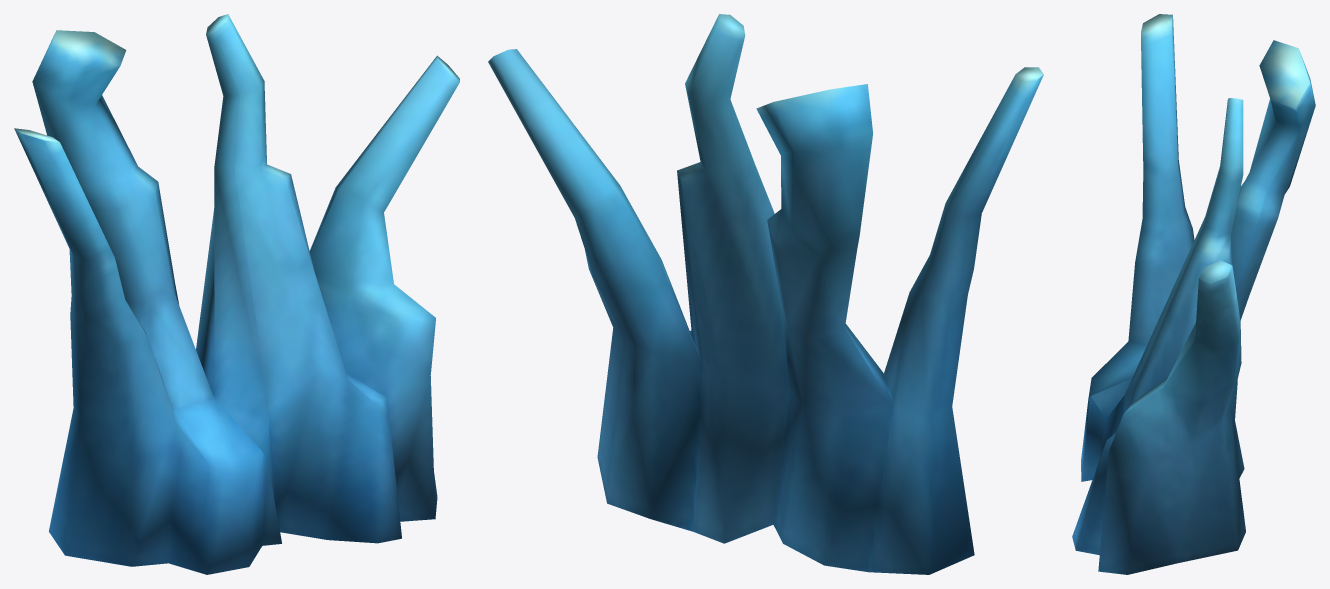
Rendered from Stage_ZhuCheng_BingLing02.FBX.
3 views of the same model, side by side, from view 1: azimuth 30°, elevation 25°; view 2: azimuth 150°, elevation 25°; view 3: azimuth 270°, elevation 25° (orthographic). The views are drawn at different scales.
Visible parts, largest first — view 1: Stage_ZhuCheng_BingLing02; view 2: Stage_ZhuCheng_BingLing02; view 3: Stage_ZhuCheng_BingLing02.
Part boxes in pixels (x1,y1,x2,y2): Stage_ZhuCheng_BingLing02: [14, 14, 459, 574]; Stage_ZhuCheng_BingLing02: [488, 14, 1043, 574]; Stage_ZhuCheng_BingLing02: [1072, 14, 1315, 574].
Bounding box in the file's own units: 180 × 180 × 92.93.
